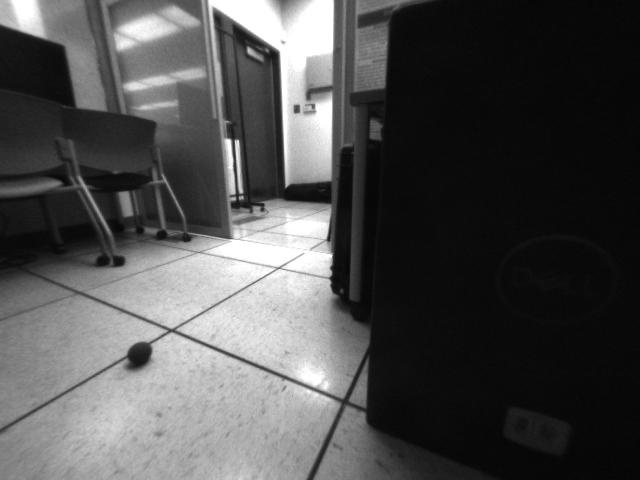dogtoy: (119, 332, 162, 374)
